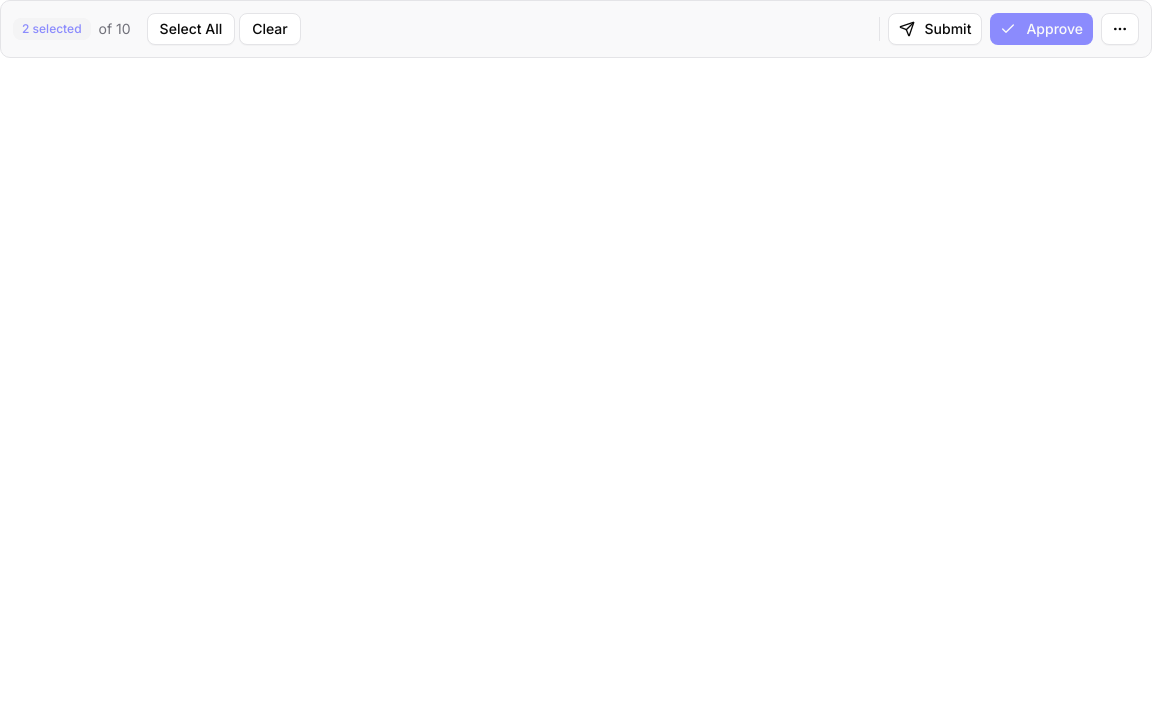
BulkActionToolbar › Dropdown Menu › should execute action from dropdown menu
Note: Open dropdown
Click the 5th button: (1120, 29) 1101,13 -> 1139,45
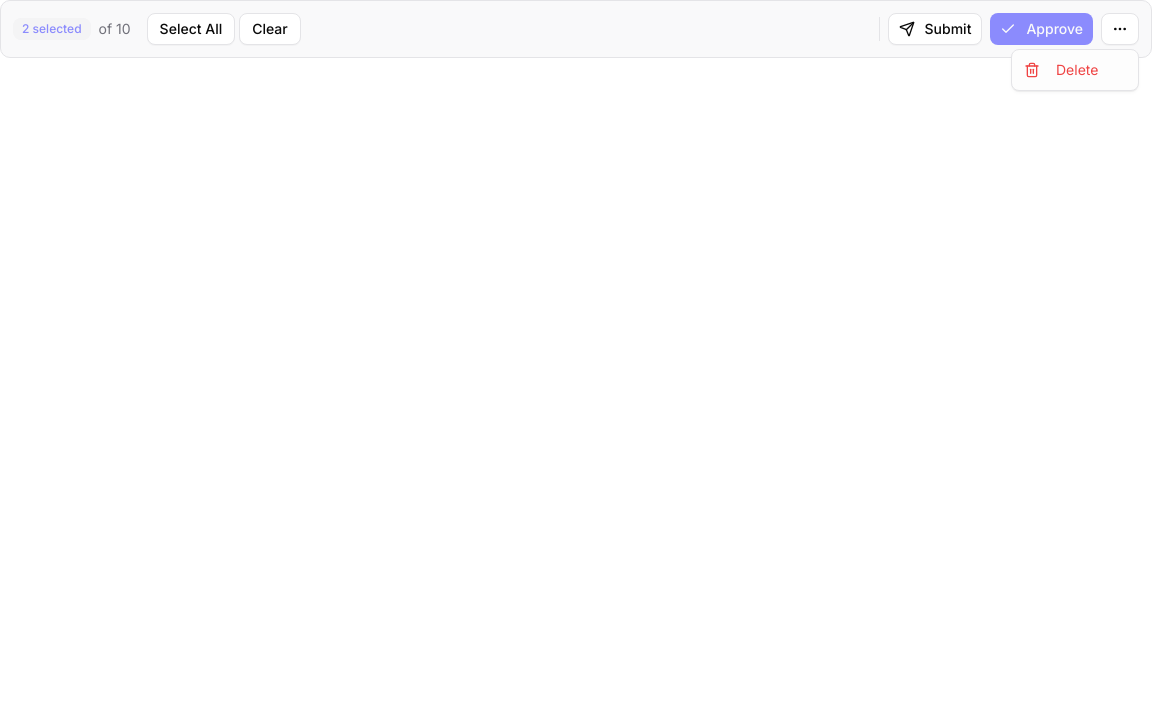
Note: Click delete action
Click the menu item "Delete": (1061, 70) 1024,61 -> 1098,78
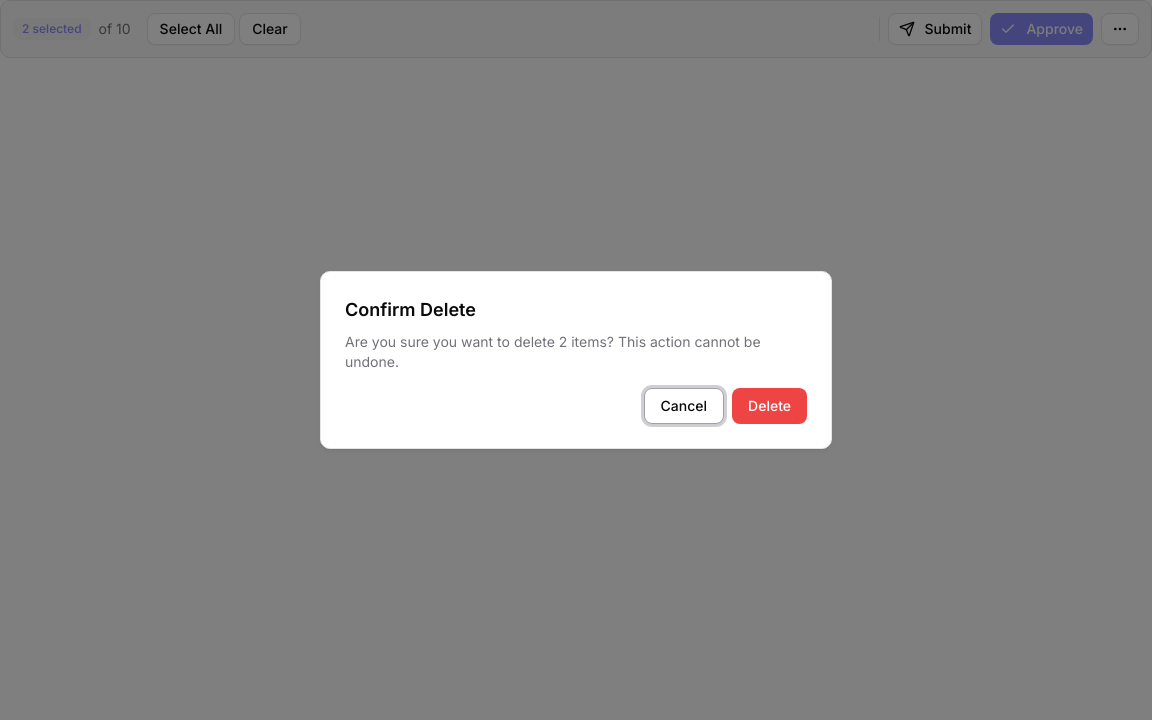
Expected: the heading "Confirm Delete" is shown, 345,299 -> 476,320
